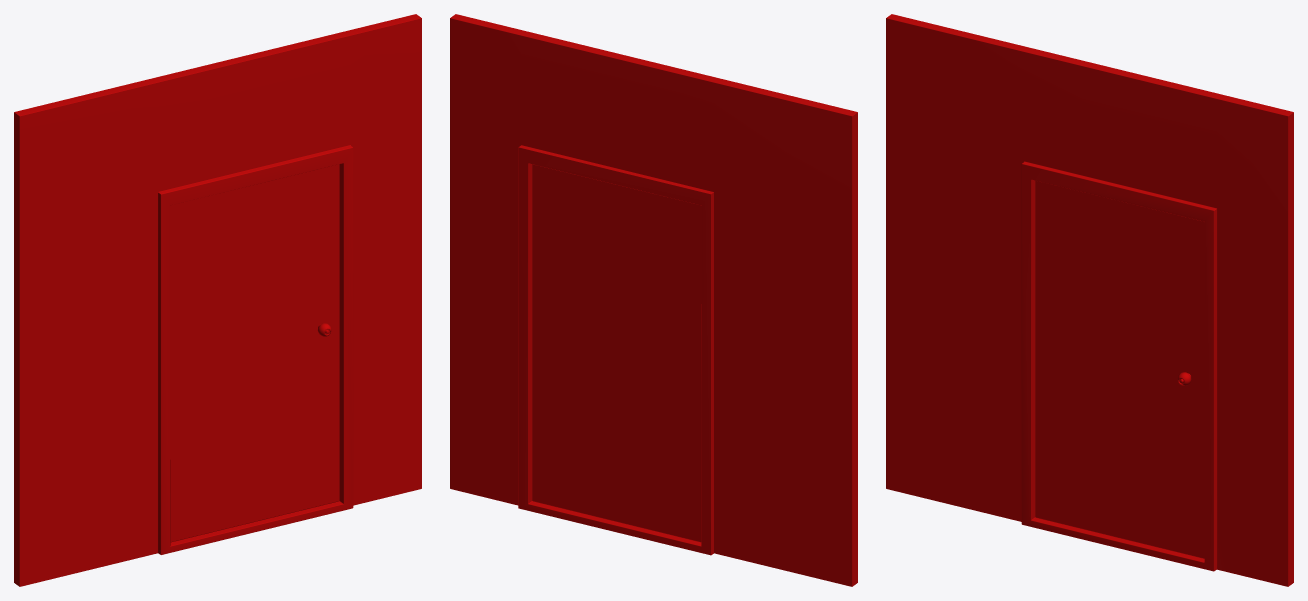
File: HouseParty_Door.fbx
3 views of the same model, side by side, from view 1: azimuth 30°, elevation 25°; view 2: azimuth 150°, elevation 25°; view 3: azimuth 330°, elevation 25° (orthographic).
Visible parts, largest first — view 1: Door_Wall1, Door; view 2: Door_Wall1, Door; view 3: Door_Wall1, Door.
Boxes of the visible parts, x1,y1,x2,y2 form: Door_Wall1: (14, 14, 421, 586); Door: (170, 164, 339, 542); Door_Wall1: (450, 14, 857, 586); Door: (532, 164, 701, 542); Door_Wall1: (886, 14, 1293, 586); Door: (1035, 180, 1204, 558).
Size of the model in its own units: 8.01 by 8.95 by 0.5286.
